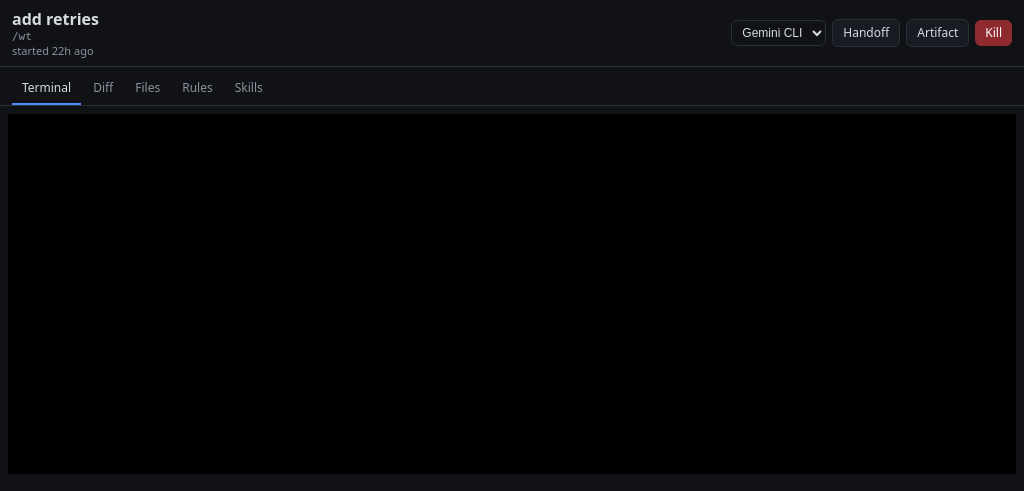
SessionDetail › shows the empty-diff placeholder
What coordinates should you click on to do the following:
click the button with test id "tab-diff"
I would click on:
 (103, 89)
Its box is x1=83 y1=73 x2=123 y2=105.
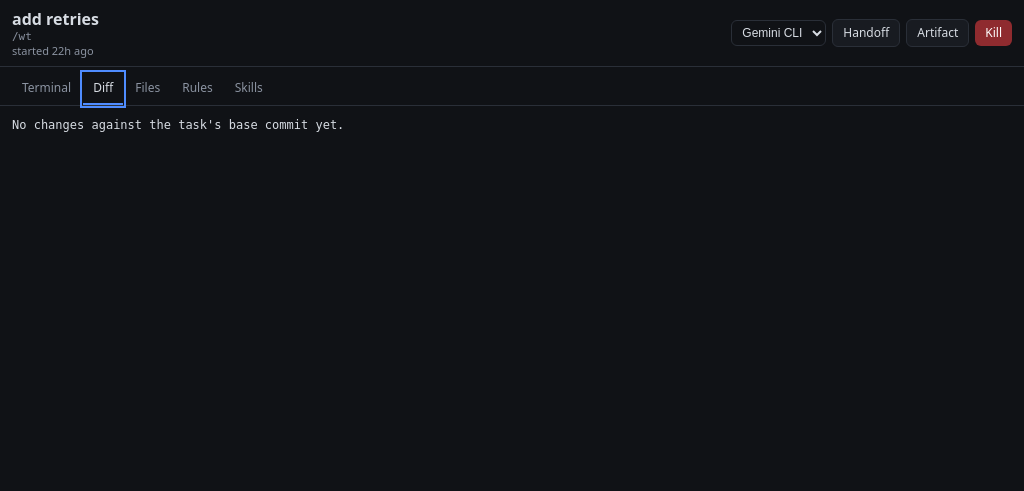
Result: the text with test id "diff-view" reads "No changes against the task's base commit yet." at x1=12 y1=118 x2=344 y2=132
